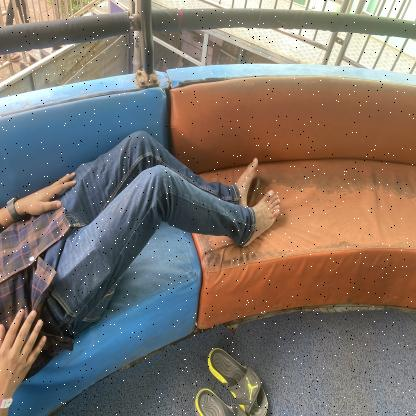hand: (0, 297, 48, 416), (0, 165, 85, 231)
leg: (213, 186, 289, 254), (208, 145, 263, 210)
